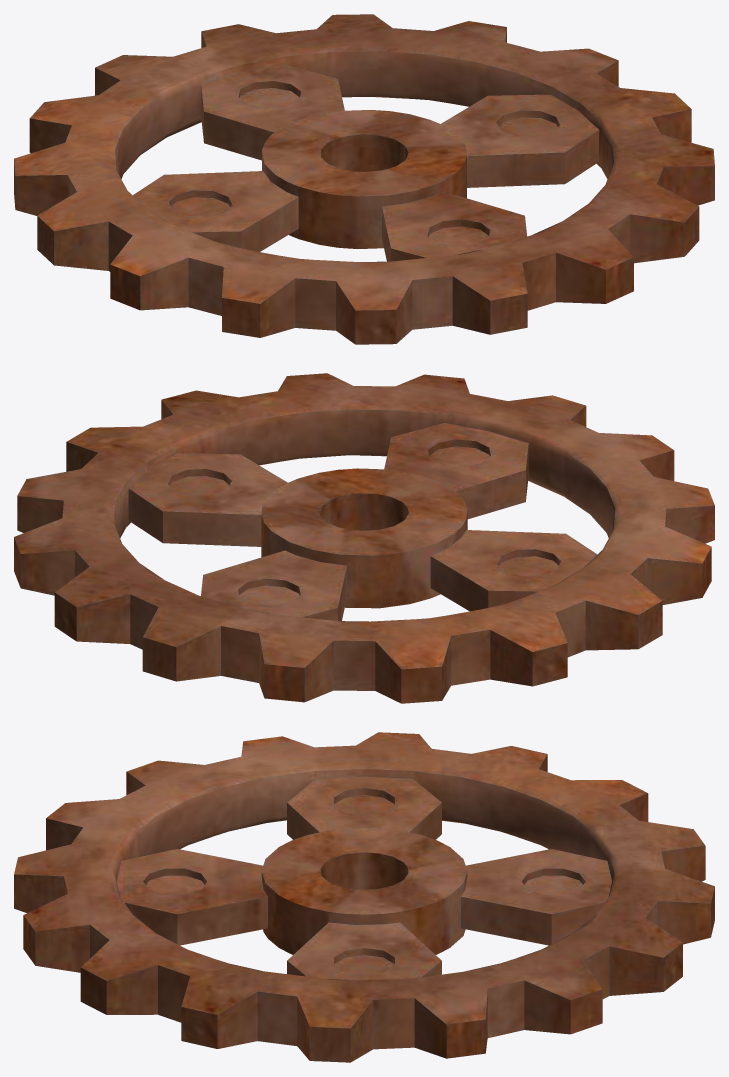
The model's file is steampunk_gear_19.glb.
3 renders of one model, top to bottom at view 1: azimuth 30°, elevation 25°; view 2: azimuth 150°, elevation 25°; view 3: azimuth 270°, elevation 25°, orthographic.
Visible parts, largest first — view 1: steampunk_gear_19; view 2: steampunk_gear_19; view 3: steampunk_gear_19.
Boxes of the visible parts, left/top/right/bottom form: steampunk_gear_19: left=14, top=14, right=714, bottom=344; steampunk_gear_19: left=14, top=373, right=714, bottom=703; steampunk_gear_19: left=14, top=732, right=714, bottom=1062.
Size of what is drawn, in the model's own units: 0.1534 by 0.0127 by 0.1534.
1 material, 1 textured.
